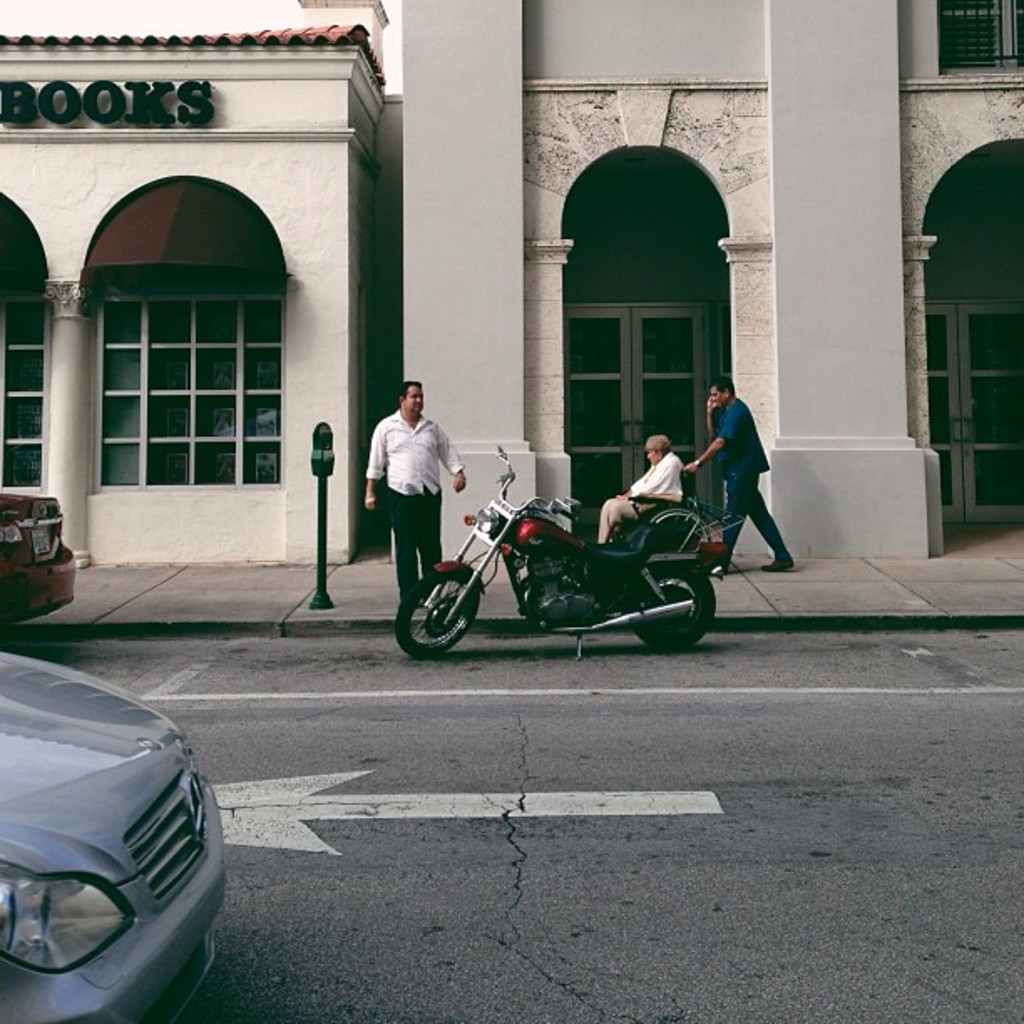Car: (0, 642, 232, 1022), (0, 490, 70, 615)
